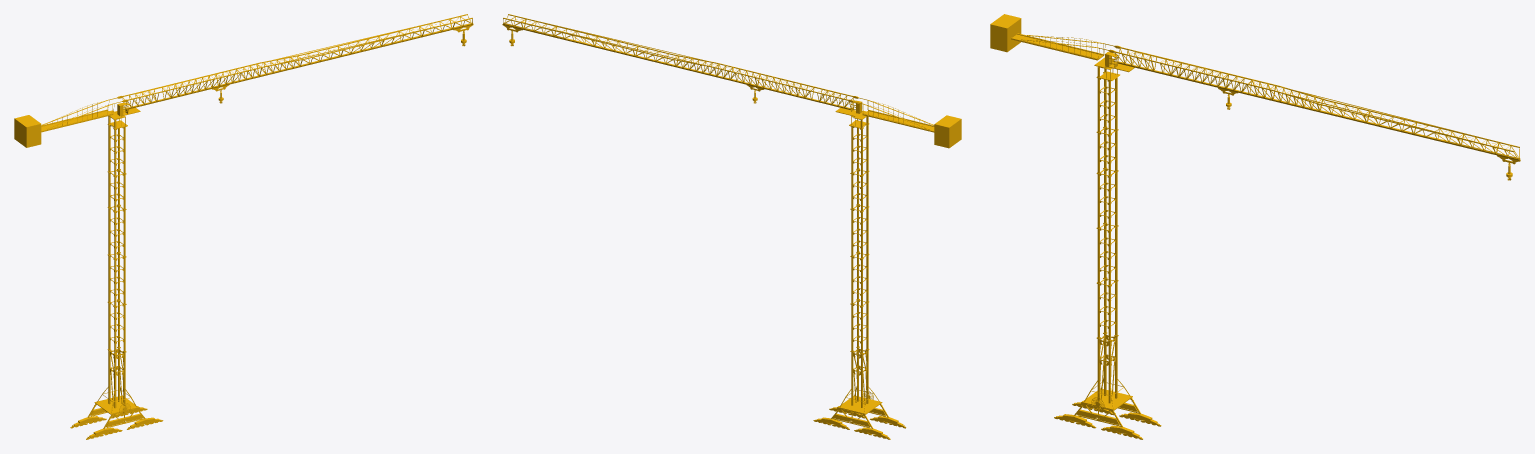
3 views of the same model, side by side, from view 1: azimuth 30°, elevation 25°; view 2: azimuth 150°, elevation 25°; view 3: azimuth 330°, elevation 25° (orthographic). The views are drawn at different scales.
Parts seen in each view (by area): view 1: Plane.001, Plane.002; view 2: Plane.001, Plane.002; view 3: Plane.001, Plane.002.
Part boxes in pixels (bbox=[...]): Plane.001: bbox=[14, 115, 163, 439]; Plane.002: bbox=[26, 14, 473, 147]; Plane.001: bbox=[813, 115, 961, 439]; Plane.002: bbox=[502, 14, 934, 132]; Plane.001: bbox=[990, 14, 1161, 439]; Plane.002: bbox=[990, 24, 1520, 180].
Size of the model in its own units: 97.87 by 67.18 by 6.54.
